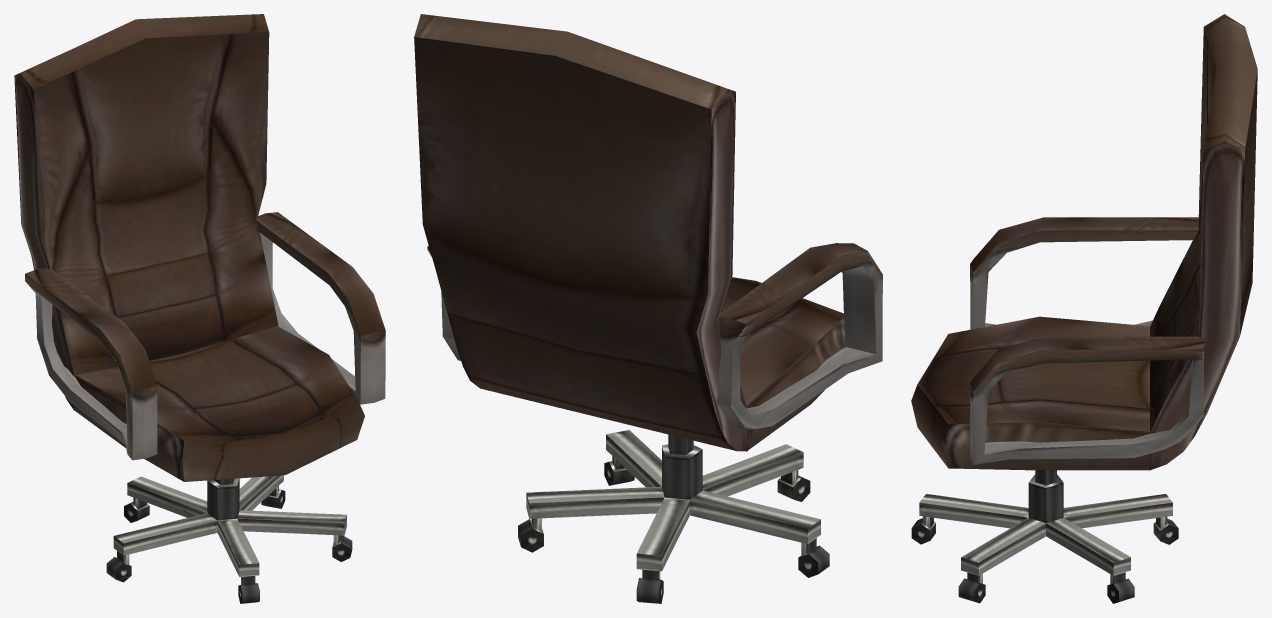
The model's file is Office_Chair_2.fbx.
3 renders of one model, left to right at view 1: azimuth 30°, elevation 25°; view 2: azimuth 150°, elevation 25°; view 3: azimuth 270°, elevation 25°, orthographic. The views are drawn at different scales.
Parts seen in each view (by area): view 1: Office_Chair_2_Seat, Office_Chair_2_Stand; view 2: Office_Chair_2_Seat, Office_Chair_2_Stand; view 3: Office_Chair_2_Seat, Office_Chair_2_Stand.
Boxes of the visible parts, x1,y1,x2,y2 form: Office_Chair_2_Seat: (14, 14, 385, 481); Office_Chair_2_Stand: (106, 475, 352, 603); Office_Chair_2_Seat: (414, 14, 882, 451); Office_Chair_2_Stand: (518, 430, 829, 603); Office_Chair_2_Seat: (911, 14, 1257, 470); Office_Chair_2_Stand: (911, 470, 1178, 603).
Bounding box in the file's own units: 84.97 × 147 × 92.25.
